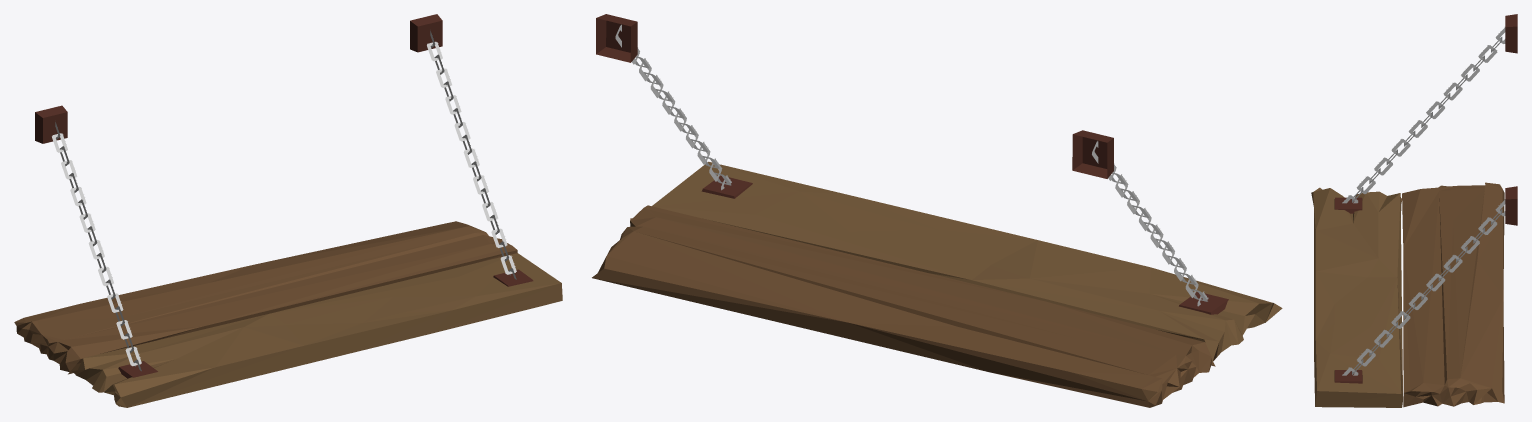
The model's file is RG-Dungeon_Bed.FBX.
3 views of the same model, side by side, from view 1: azimuth 30°, elevation 25°; view 2: azimuth 150°, elevation 25°; view 3: azimuth 270°, elevation 25° (orthographic). The views are drawn at different scales.
Visible parts, largest first — view 1: RG-Dungeon_Bed-main-02, RG-Dungeon_Chain-02; view 2: RG-Dungeon_Bed-main-02, RG-Dungeon_Chain-02; view 3: RG-Dungeon_Bed-main-02, RG-Dungeon_Chain-02.
Part boxes in pixels (bbox=[...]): RG-Dungeon_Bed-main-02: bbox=[14, 14, 562, 407]; RG-Dungeon_Chain-02: bbox=[52, 30, 516, 371]; RG-Dungeon_Bed-main-02: bbox=[592, 14, 1282, 407]; RG-Dungeon_Chain-02: bbox=[615, 24, 1208, 306]; RG-Dungeon_Bed-main-02: bbox=[1311, 14, 1517, 407]; RG-Dungeon_Chain-02: bbox=[1342, 27, 1505, 375].
Bounding box in the file's own units: 10.91 × 4.91 × 4.58.
